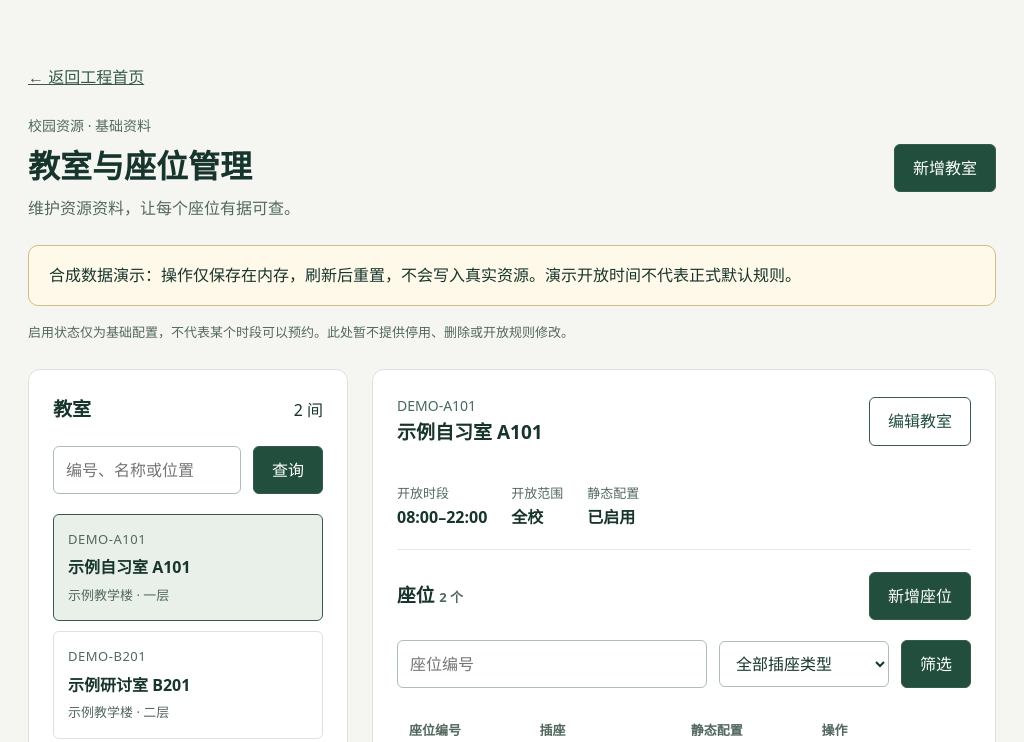
Test: B resource workspace › creates a room then reads its result through the gateway
The width and height of the screenshot is (1024, 742).
Click the button "新增教室" at (945, 168), box [894, 144, 996, 192]
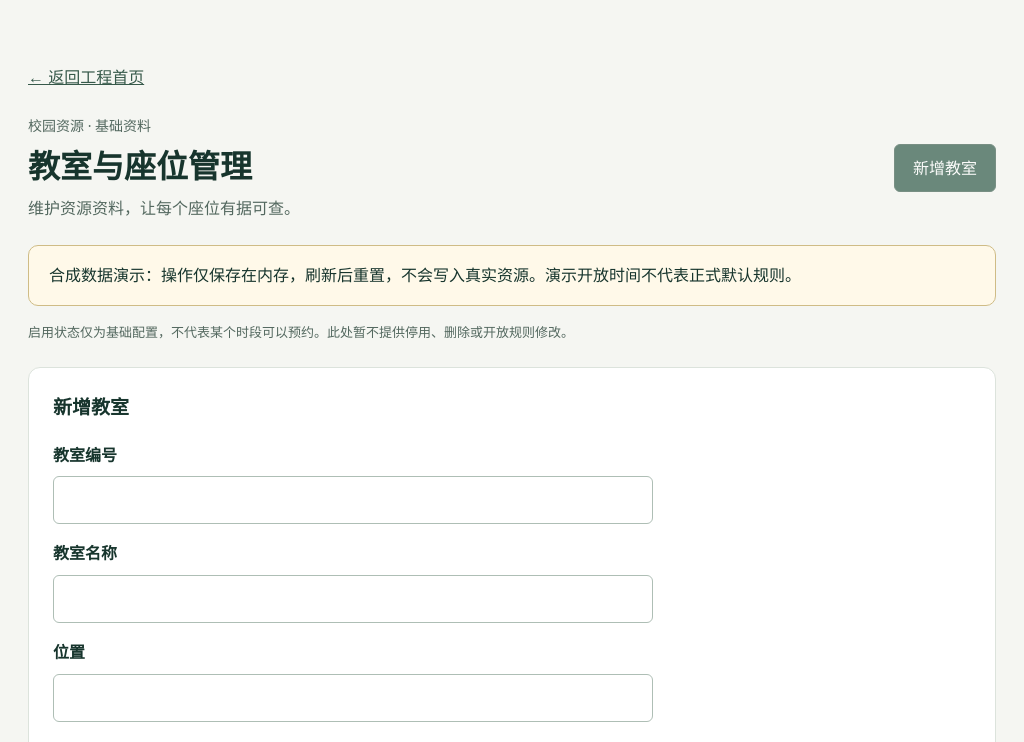
Type "NEW-101" into the field with id "resource-code" at (353, 500), box [53, 476, 653, 524]
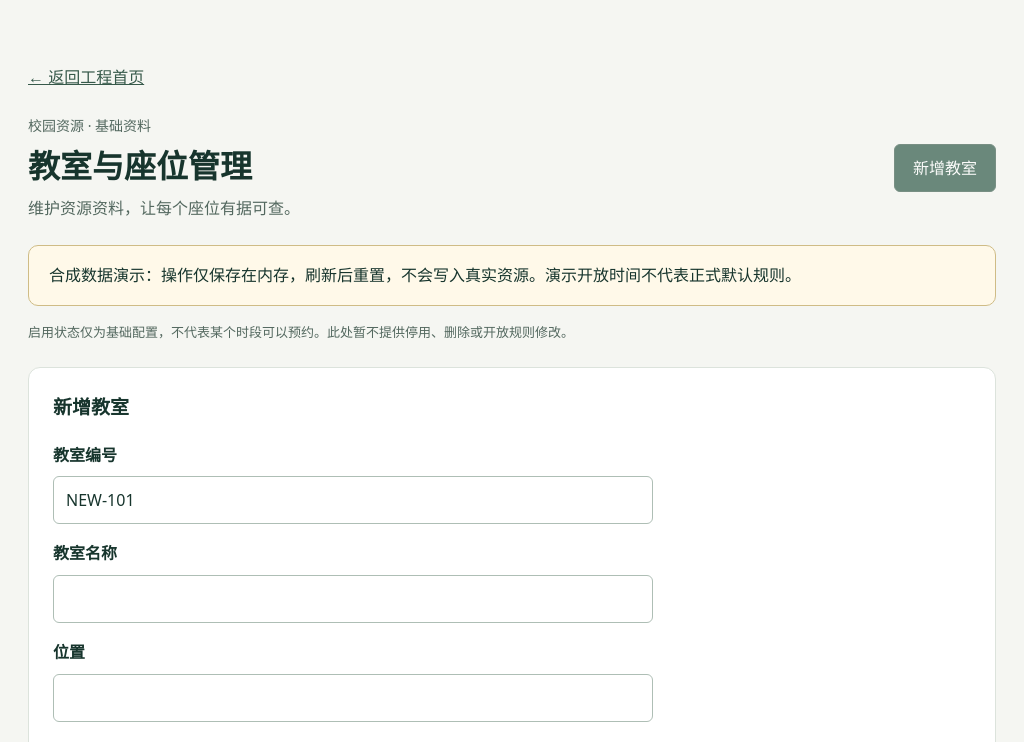
Type "新增示例教室" into the field with id "room-name" at (353, 599), box [53, 575, 653, 623]
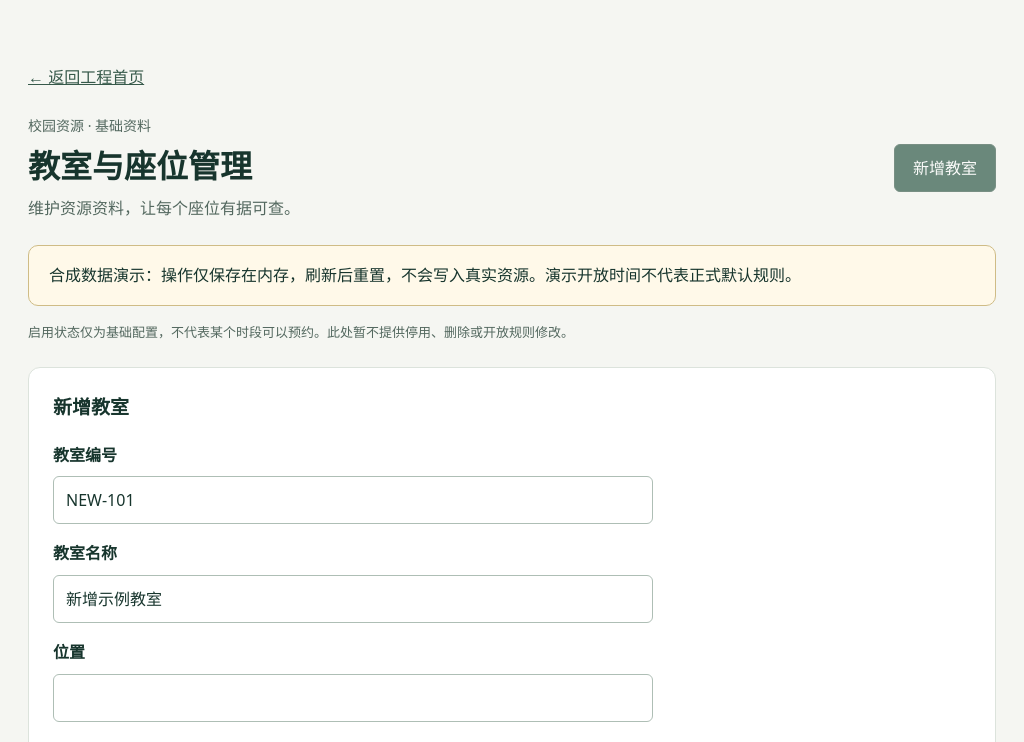
Type "示例三层" into the field with id "room-location" at (353, 698), box [53, 674, 653, 722]
(page scrolled)
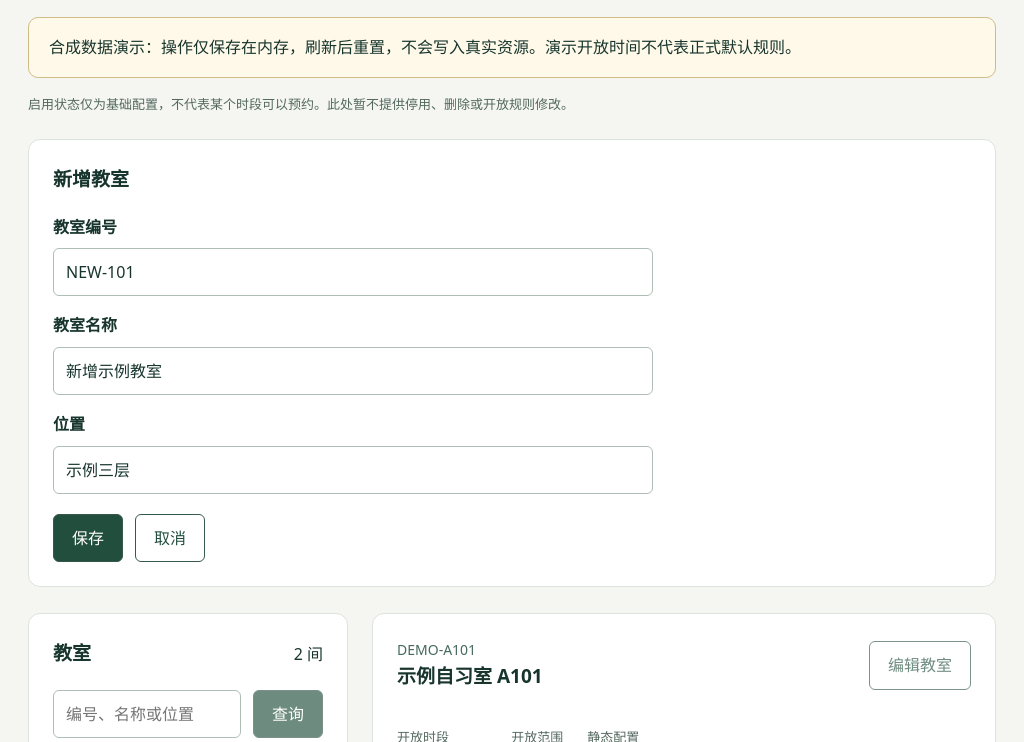
Submit the form "教室编号 教室名称 位置 保存 取消", box [53, 206, 653, 562]
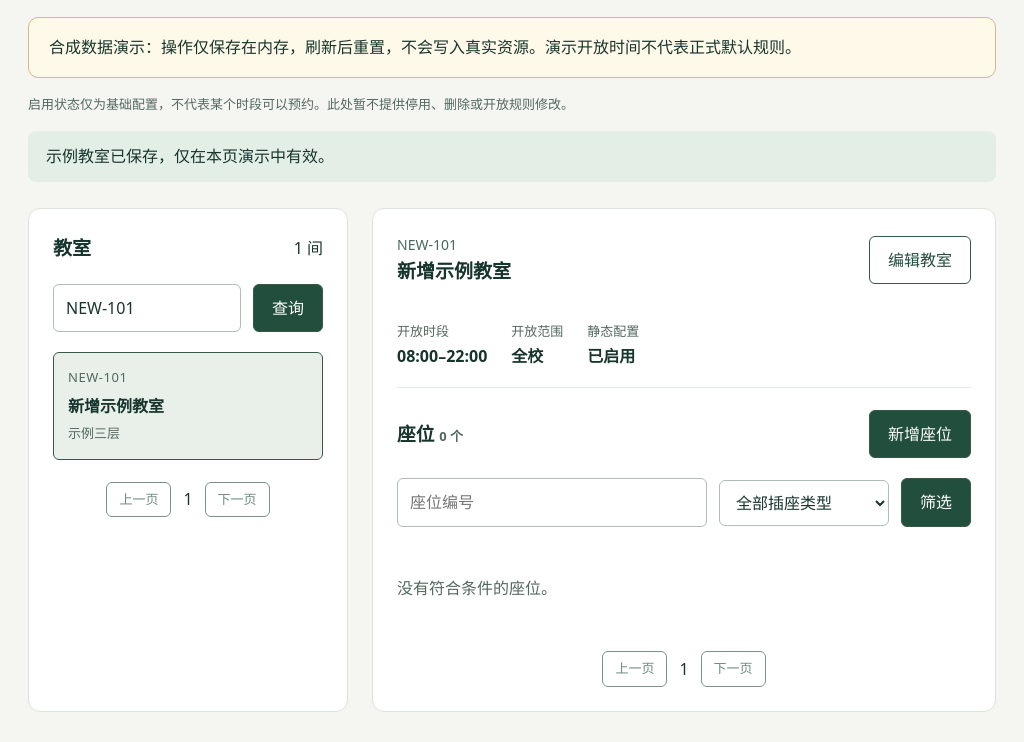
Now the text "示例教室已保存" is shown, box [46, 145, 334, 167]
Now the heading with id "seat-list-title" reads "新增示例教室", box [397, 258, 511, 284]
